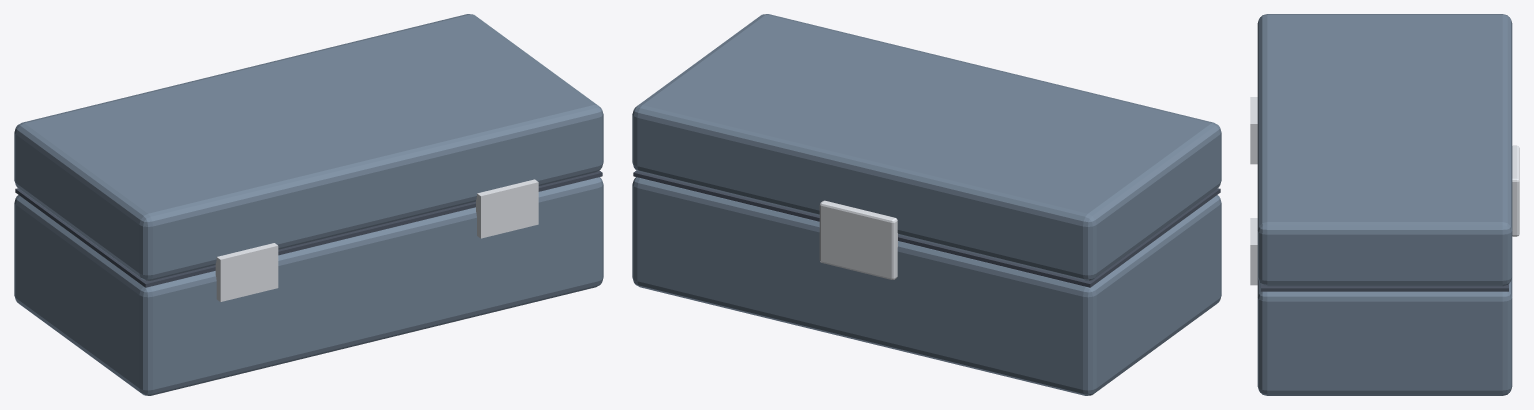
The model's file is accessory_case.glb.
The picture shows the model from 3 angles, left to right: view 1: azimuth 30°, elevation 25°; view 2: azimuth 150°, elevation 25°; view 3: azimuth 270°, elevation 25°; orthographic projection. The views are drawn at different scales.
Parts seen in each view (by area): view 1: case_lid, case_base, case_hinge, case_seam; view 2: case_lid, case_base, case_clasp, case_seam; view 3: case_lid, case_base, case_seam, case_hinge, case_clasp.
Part boxes in pixels (x1,y1,x2,y2): case_lid: [14, 14, 603, 280]; case_base: [14, 177, 603, 395]; case_hinge: [215, 179, 538, 301]; case_seam: [15, 170, 602, 287]; case_lid: [632, 14, 1221, 280]; case_base: [632, 177, 1221, 395]; case_clasp: [819, 200, 897, 279]; case_seam: [633, 170, 1220, 287]; case_lid: [1257, 14, 1512, 286]; case_base: [1257, 277, 1512, 395]; case_seam: [1261, 284, 1508, 291]; case_hinge: [1250, 97, 1257, 285]; case_clasp: [1512, 145, 1519, 236].
Bounding box in the file's own units: 0.16 × 0.06 × 0.0846.
